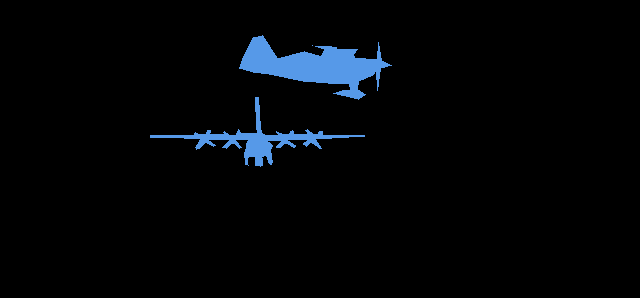Airplane: (150, 97, 365, 167), (239, 35, 392, 99)
